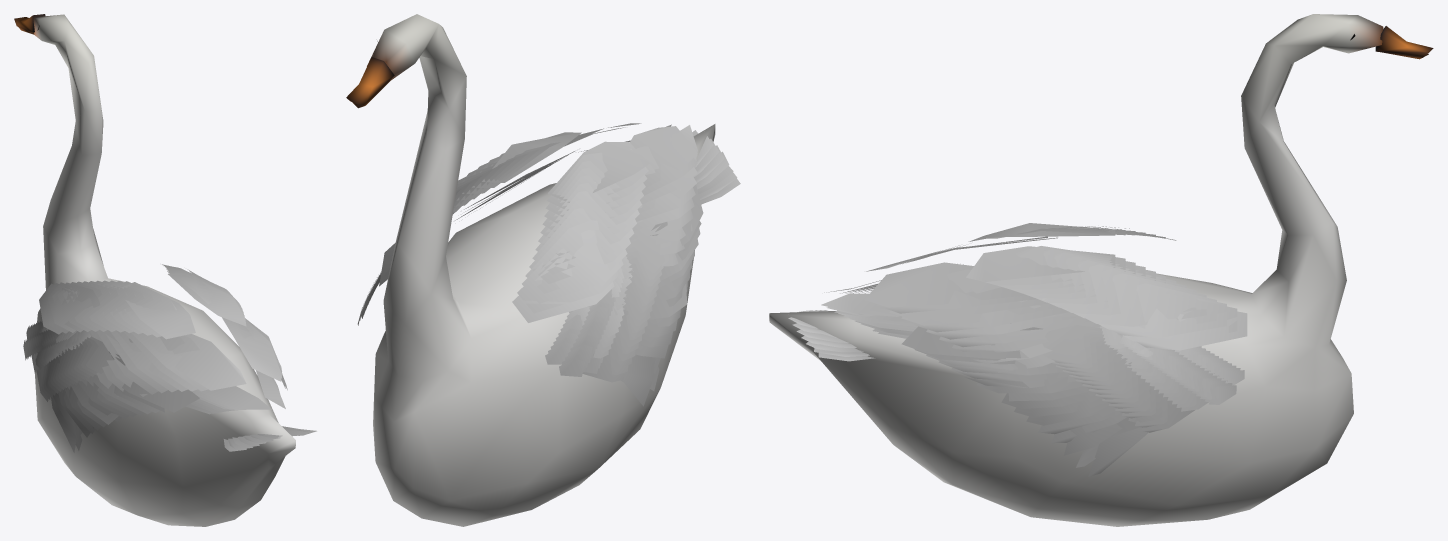
File: swan_corps_near.glb
3 renders of one model, left to right at view 1: azimuth 30°, elevation 25°; view 2: azimuth 150°, elevation 25°; view 3: azimuth 270°, elevation 25°, orthographic. The views are drawn at different scales.
Parts seen in each view (by area): view 1: SwanCorpsNear; view 2: SwanCorpsNear; view 3: SwanCorpsNear.
Part boxes in pixels (x1,y1,x2,y2): SwanCorpsNear: [14, 14, 316, 526]; SwanCorpsNear: [346, 14, 740, 526]; SwanCorpsNear: [769, 14, 1433, 526].
Size of the model in its own units: 0.4805 by 1.07 by 1.28.
